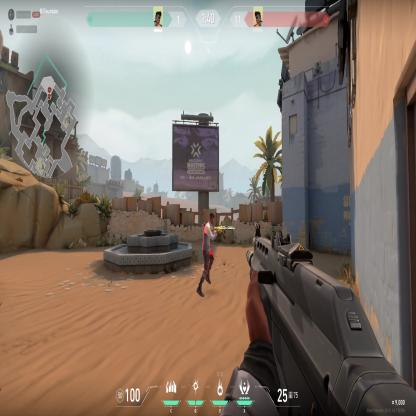enemy: (196, 209, 217, 300)
